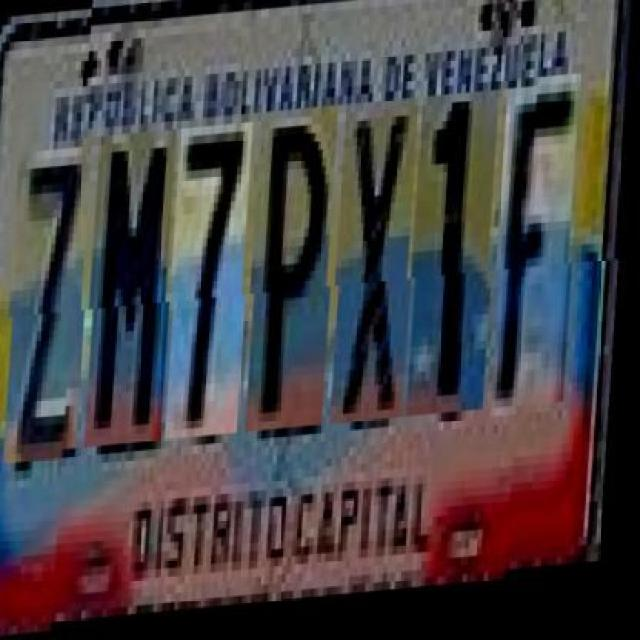1: (412, 100, 506, 426)
7: (172, 126, 259, 443)
f: (497, 94, 586, 428)
m: (89, 133, 183, 450)
p: (250, 111, 344, 438)
x: (336, 106, 426, 431)
z: (10, 138, 98, 456)
